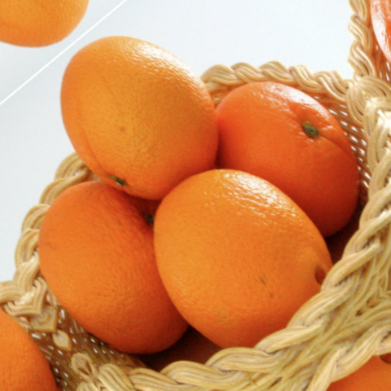orange: (100, 111, 379, 391), (0, 147, 229, 391), (13, 0, 240, 224), (176, 37, 385, 248)
